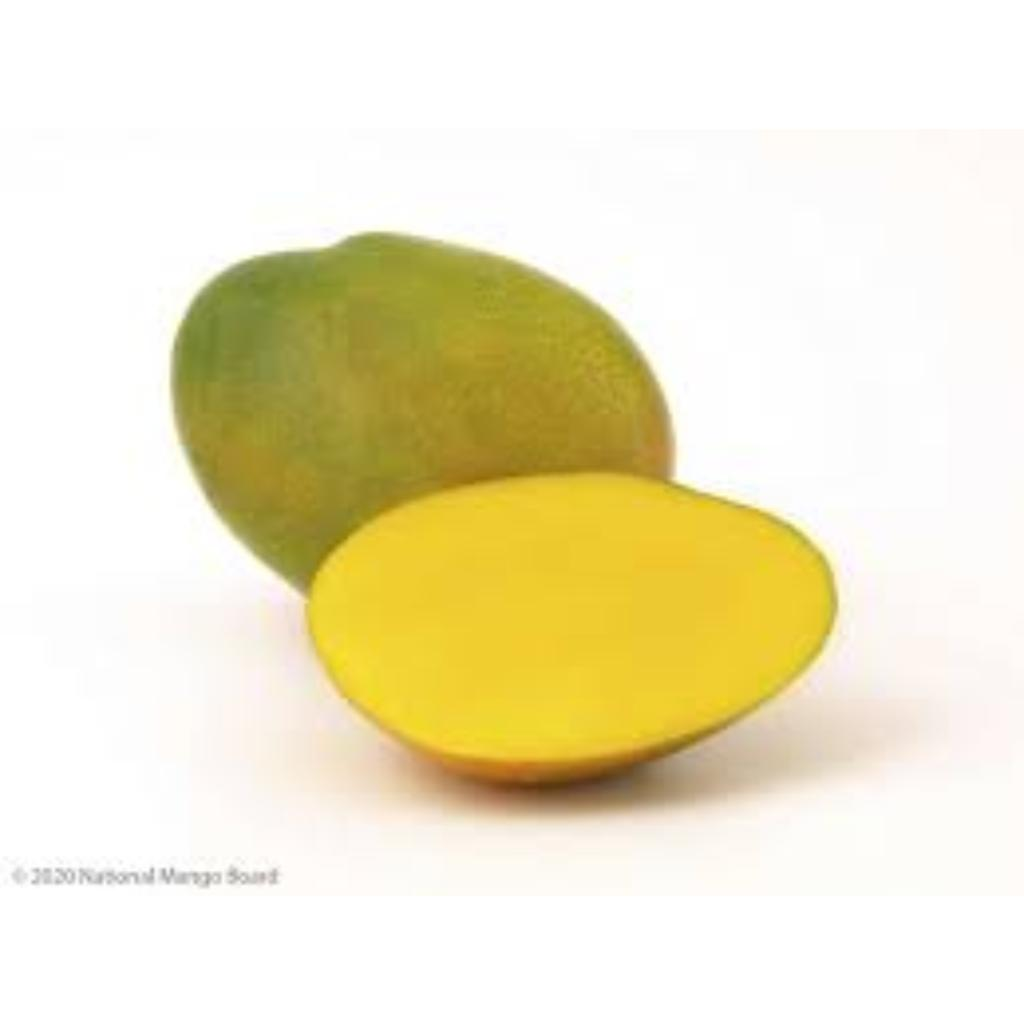mango: (161, 232, 675, 608), (304, 472, 838, 792)
